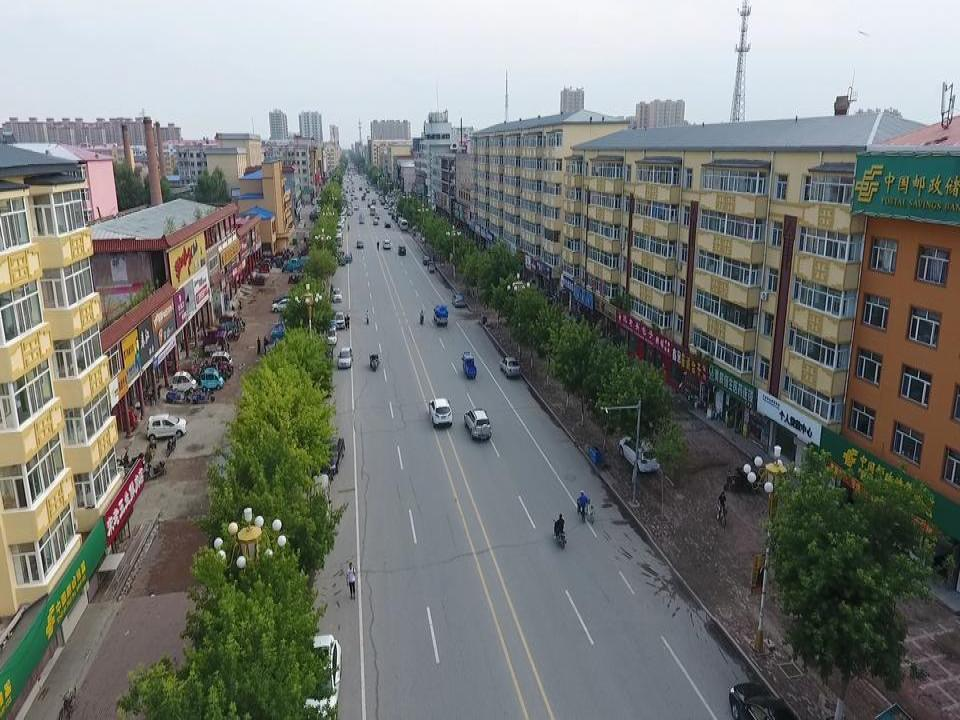car: (303, 635, 338, 716), (725, 682, 784, 720), (619, 434, 660, 470), (310, 475, 332, 528), (463, 406, 491, 439), (321, 436, 344, 472), (429, 399, 453, 425), (502, 359, 522, 380), (271, 299, 298, 312), (271, 293, 300, 304), (340, 344, 351, 369), (334, 309, 345, 328), (453, 293, 465, 307), (332, 287, 342, 301), (398, 242, 407, 255), (355, 239, 364, 249), (383, 239, 391, 249), (422, 255, 430, 264), (359, 216, 365, 224)
truck: (433, 305, 448, 324)
van: (400, 219, 409, 232), (384, 219, 391, 229), (373, 216, 378, 225)
